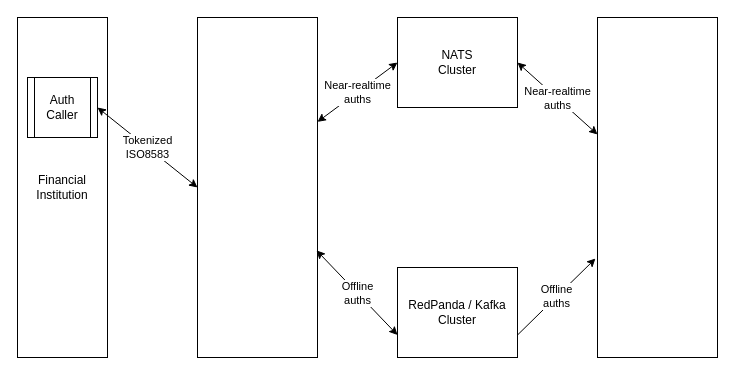
Some shapes in this 735 by 375 pixel diagram are drawn without their labels. The shapes that lost their labels are listed below. From the top down, each one's centre as x and y in pixels, then its label:
At point 257,187: "FPPS Brokers".
At point 657,187: "FPPS Evaluators".
